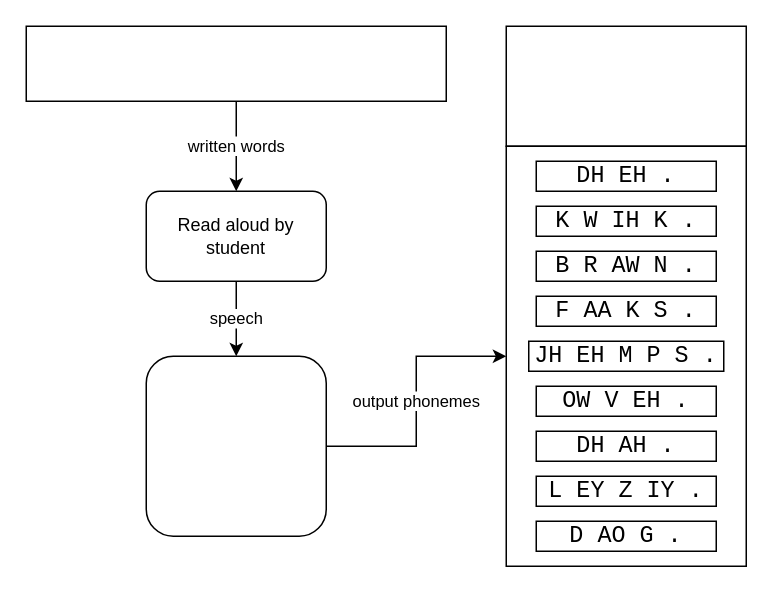
Some shapes in this 773 by 593 pixel diagram are drawn without their labels. The centre of each missing label's shape, as x and y in pixels:
Read and predicted Phonemes: point (625, 85)
Sentence: The quick brown fox jumps over the lazy dog: point (235, 63)
Speech to Phoneme Models: point (235, 445)
